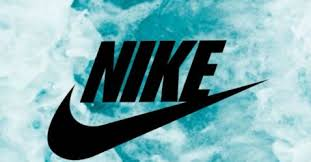nike: (47, 79, 266, 160)
